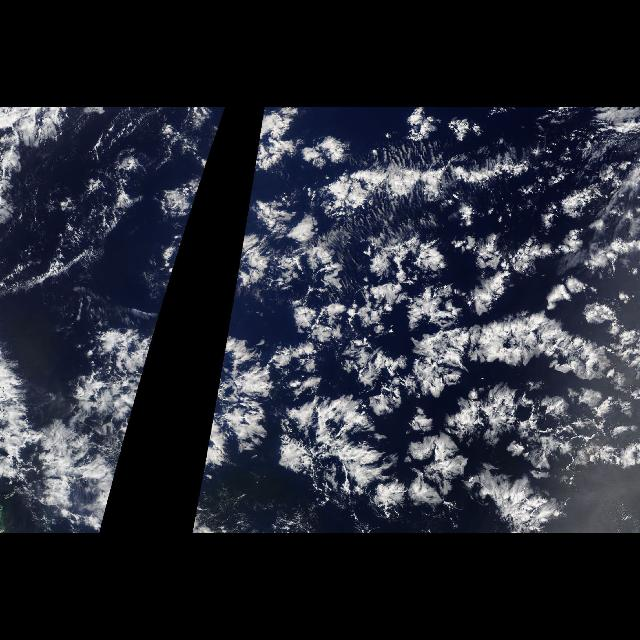Flower: (191, 133, 639, 532), (191, 134, 217, 212)
